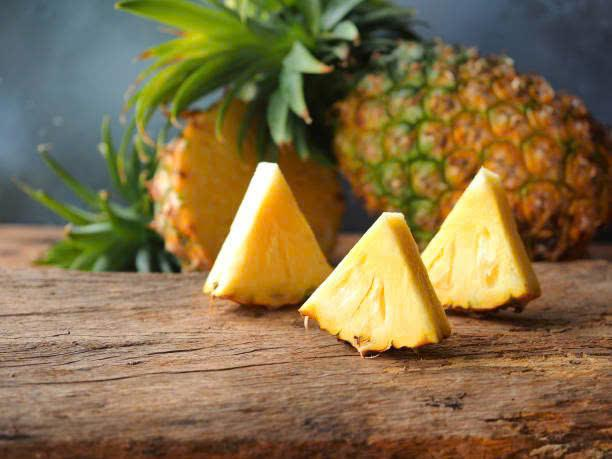pineapple: (334, 53, 607, 189), (301, 214, 452, 367), (419, 161, 541, 313), (204, 163, 328, 306)
